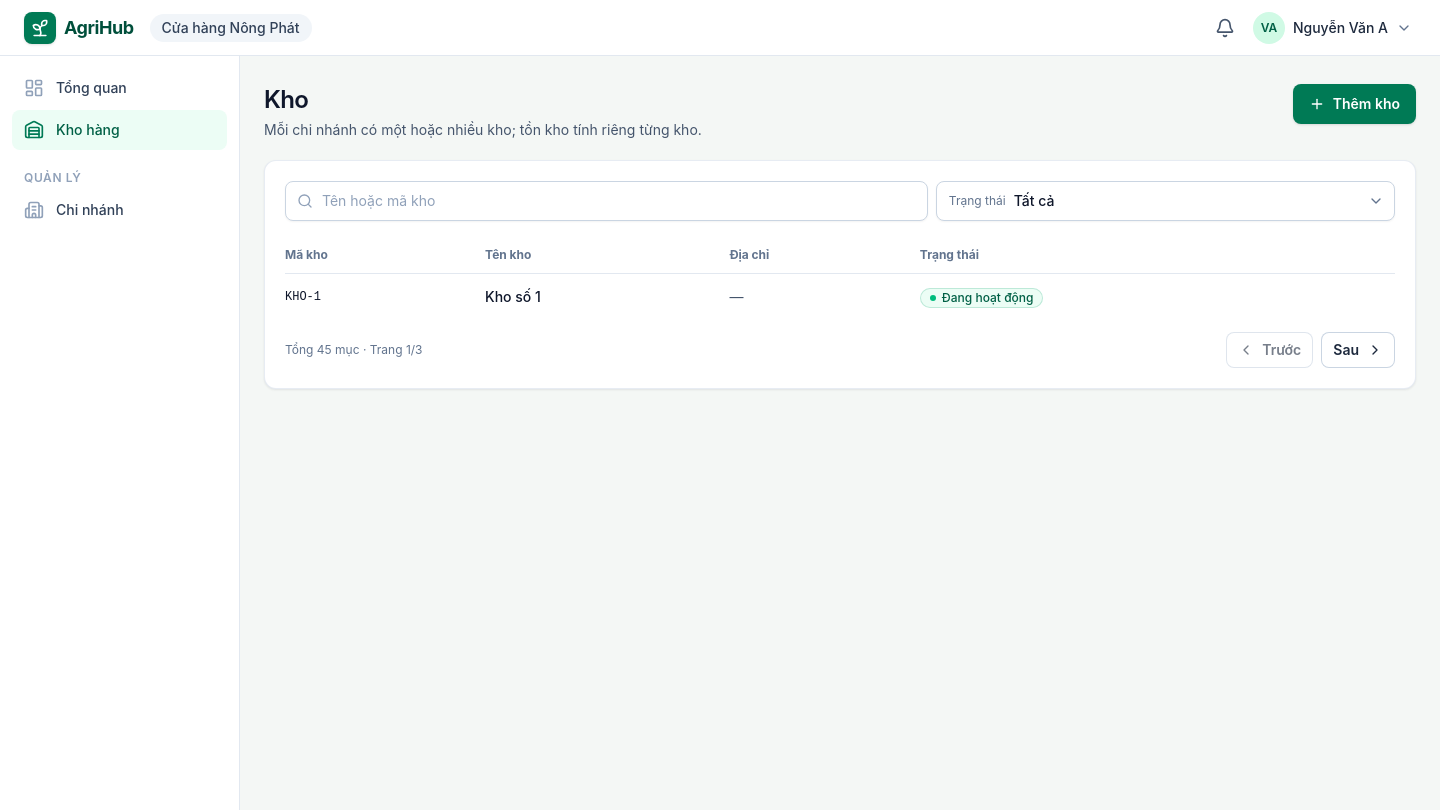
Test: phân trang › xin 20 mục mỗi trang, đổi trang gửi đúng số trang và hiện "Trang x/y"
Expected: the text "Kho số 1" is shown, [485,274,729,320]
Expected: the text "Tổng 45 mục · Trang 1/3" is shown, [285,342,422,358]
Click the button "Sau" at (1358,350), box [1321,332,1395,368]
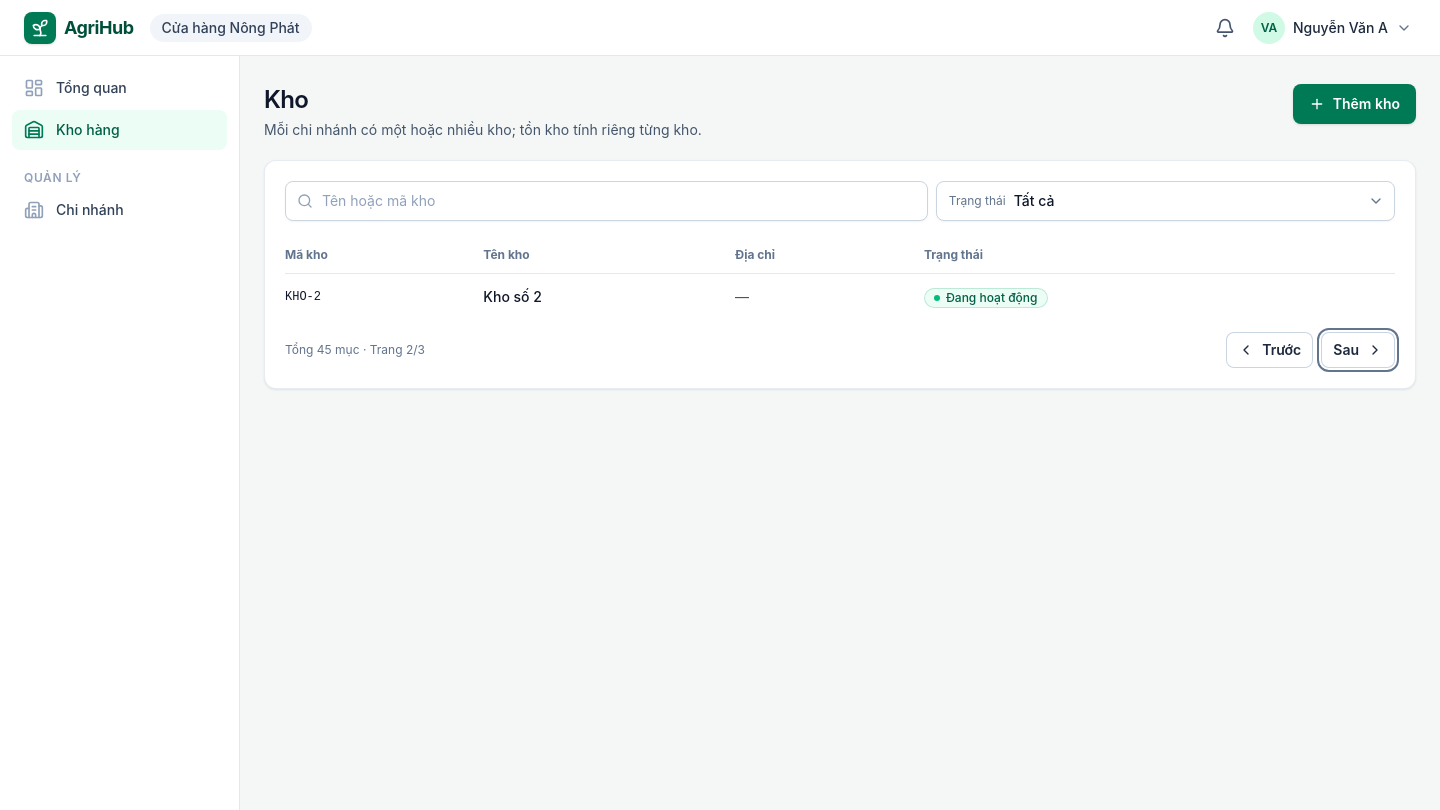
Expected: the text "Kho số 2" is shown, [483,274,735,320]
Expected: the text "Tổng 45 mục · Trang 2/3" is shown, [285,342,425,358]
